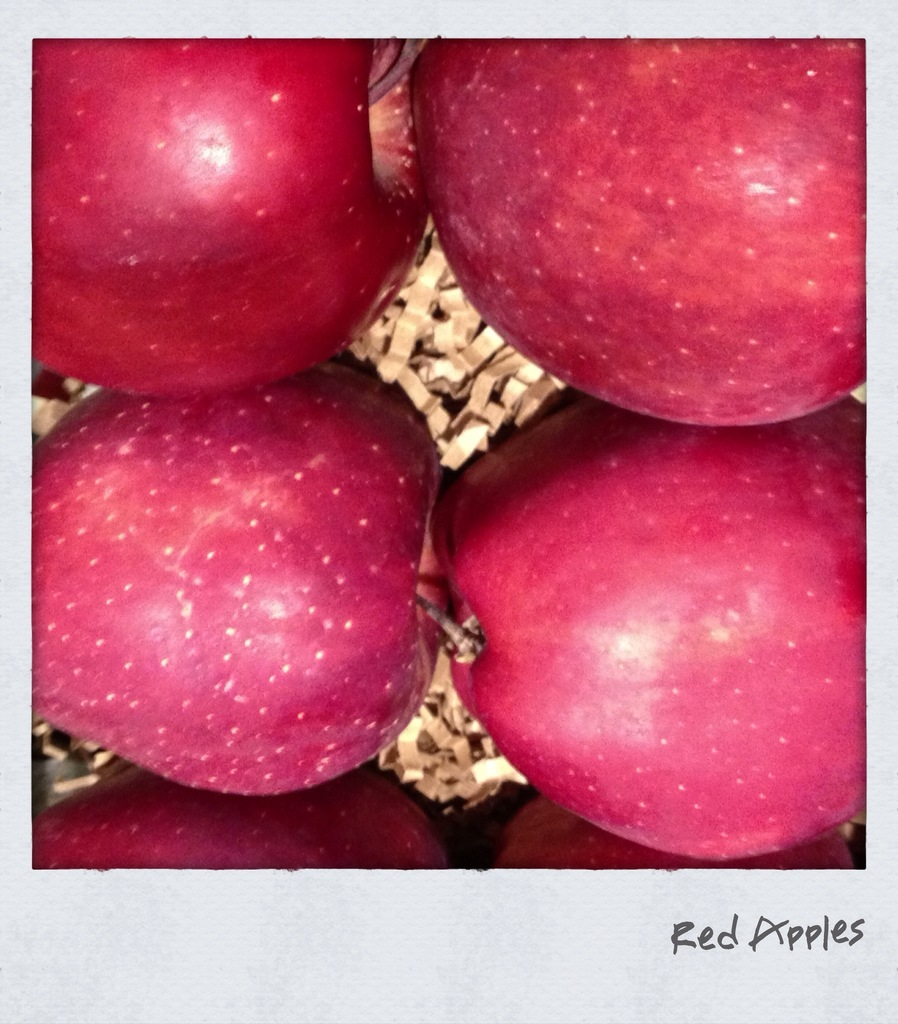Apple: (438, 392, 866, 866), (35, 360, 483, 798), (409, 31, 865, 426), (35, 32, 431, 396), (26, 766, 448, 868), (491, 791, 854, 869)
